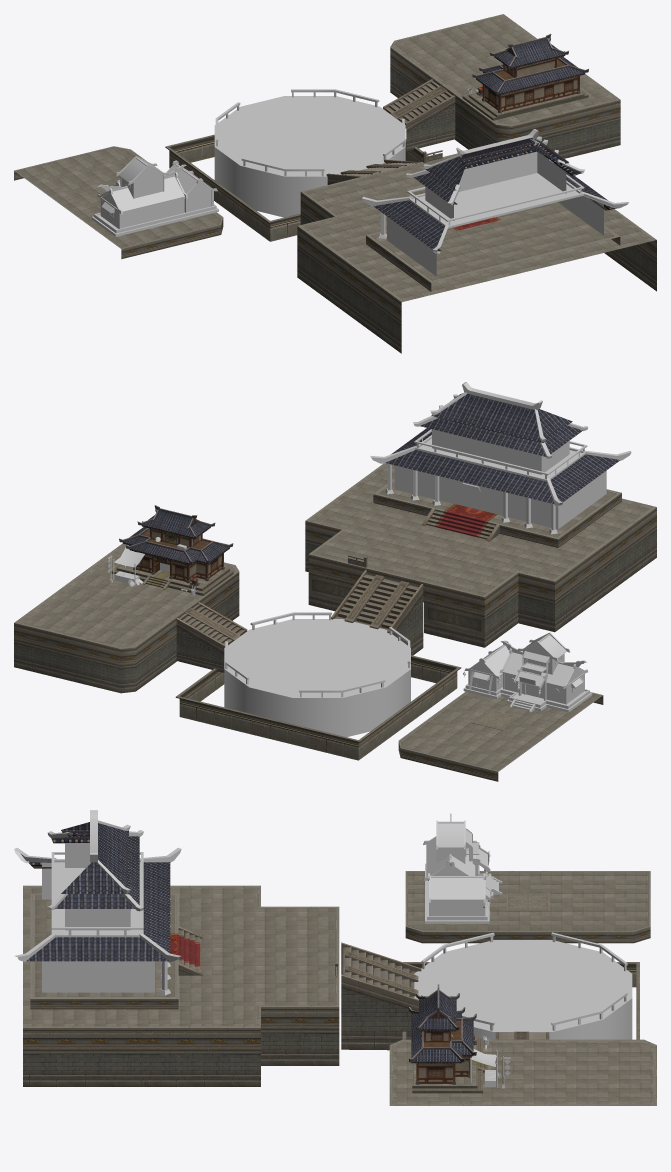
Rendered from s7_new_3d_chengchi_jianzhu001.FBX.
3 renders of one model, top to bottom at view 1: azimuth 30°, elevation 25°; view 2: azimuth 150°, elevation 25°; view 3: azimuth 270°, elevation 25°, orthographic. The views are drawn at different scales.
Parts seen in each view (by area): view 1: s7_new_3d_chengchi_pingtai001, s7_new_3d_chengchi_yuantai01, s7_new_3d_chengchi_yuantai03, s7_qianchongta_neibu_jianzhu023333, s7_new_3d_chengchi_yuantai02, Object01csdf01, Object01dfdf, s7_new_3d_chengchi_dangpu001, Object01zxcxc, s7_new_3d_chengchi_cb001, s7_new_3d_chengchi_taijie002, s7_new_3d_chengchi_taijie001; view 2: s7_new_3d_chengchi_pingtai001, s7_new_3d_chengchi_yuantai01, s7_new_3d_chengchi_yuantai03, Object01dfdf, s7_qianchongta_neibu_jianzhu023333, s7_new_3d_chengchi_yuantai02, s7_new_3d_chengchi_cb001, s7_new_3d_chengchi_dangpu001, Object01zxcxc, s7_new_3d_chengchi_taijie001, s7_new_3d_chengchi_taijie002, Object01csdf01 (+2 smaller); view 3: s7_new_3d_chengchi_pingtai001, s7_new_3d_chengchi_yuantai01, Object01dfdf, s7_new_3d_chengchi_yuantai03, s7_new_3d_chengchi_yuantai02, s7_qianchongta_neibu_jianzhu023333, s7_new_3d_chengchi_taijie001, s7_new_3d_chengchi_dangpu001, Object01zxcxc, Object01csdf01, work0111111, s7_new_3d_chengchi_pingtai004 (+1 smaller).
Boxes of the visible parts, x1,y1,x2,y2 form: s7_new_3d_chengchi_pingtai001: (297,149,656,353); s7_new_3d_chengchi_yuantai01: (214,89,405,217); s7_new_3d_chengchi_yuantai03: (390,14,620,159); s7_qianchongta_neibu_jianzhu023333: (362,129,628,276); s7_new_3d_chengchi_yuantai02: (14,146,223,259); Object01csdf01: (371,202,613,280); Object01dfdf: (366,138,620,291); s7_new_3d_chengchi_dangpu001: (91,156,218,236); Object01zxcxc: (462,33,588,120); s7_new_3d_chengchi_cb001: (165,134,428,241); s7_new_3d_chengchi_taijie002: (383,79,455,151); s7_new_3d_chengchi_taijie001: (326,159,419,184); s7_new_3d_chengchi_pingtai001: (305,463,656,647); s7_new_3d_chengchi_yuantai01: (224,612,410,736); s7_new_3d_chengchi_yuantai03: (14,543,239,693); Object01dfdf: (373,393,621,547); s7_qianchongta_neibu_jianzhu023333: (370,382,631,534); s7_new_3d_chengchi_yuantai02: (398,691,603,781); s7_new_3d_chengchi_cb001: (175,622,461,760); s7_new_3d_chengchi_dangpu001: (463,632,592,712); Object01zxcxc: (110,505,233,595); s7_new_3d_chengchi_taijie001: (331,570,423,655); s7_new_3d_chengchi_taijie002: (176,602,247,672); Object01csdf01: (379,482,616,536); s7_new_3d_chengchi_pingtai001: (23,885,339,1086); s7_new_3d_chengchi_yuantai01: (414,932,632,1039); Object01dfdf: (25,822,202,1009); s7_new_3d_chengchi_yuantai03: (389,1039,656,1105); s7_new_3d_chengchi_yuantai02: (405,871,650,943); s7_qianchongta_neibu_jianzhu023333: (14,810,181,995); s7_new_3d_chengchi_taijie001: (341,942,421,1050); s7_new_3d_chengchi_dangpu001: (423,813,502,923); Object01zxcxc: (408,984,487,1093); Object01csdf01: (35,895,174,996); work0111111: (451,1034,510,1088); s7_new_3d_chengchi_pingtai004: (507,893,549,911).
Bounding box in the file's own units: 77.65 × 27.03 × 76.44.
